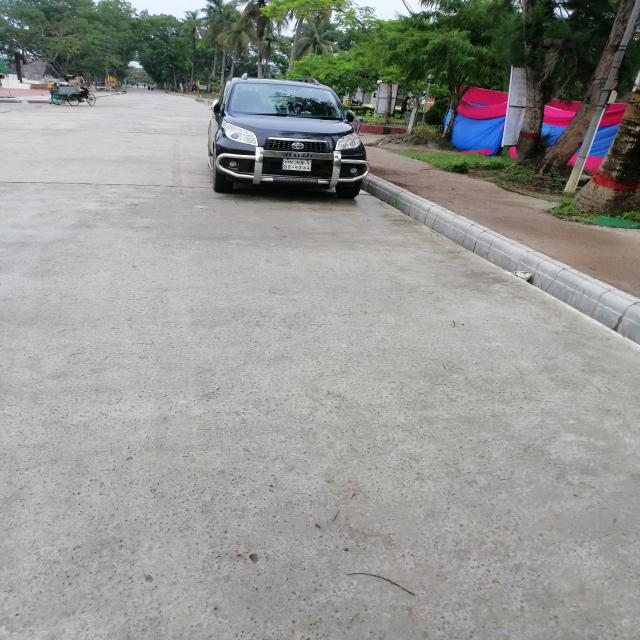Car: (192, 64, 386, 224)
